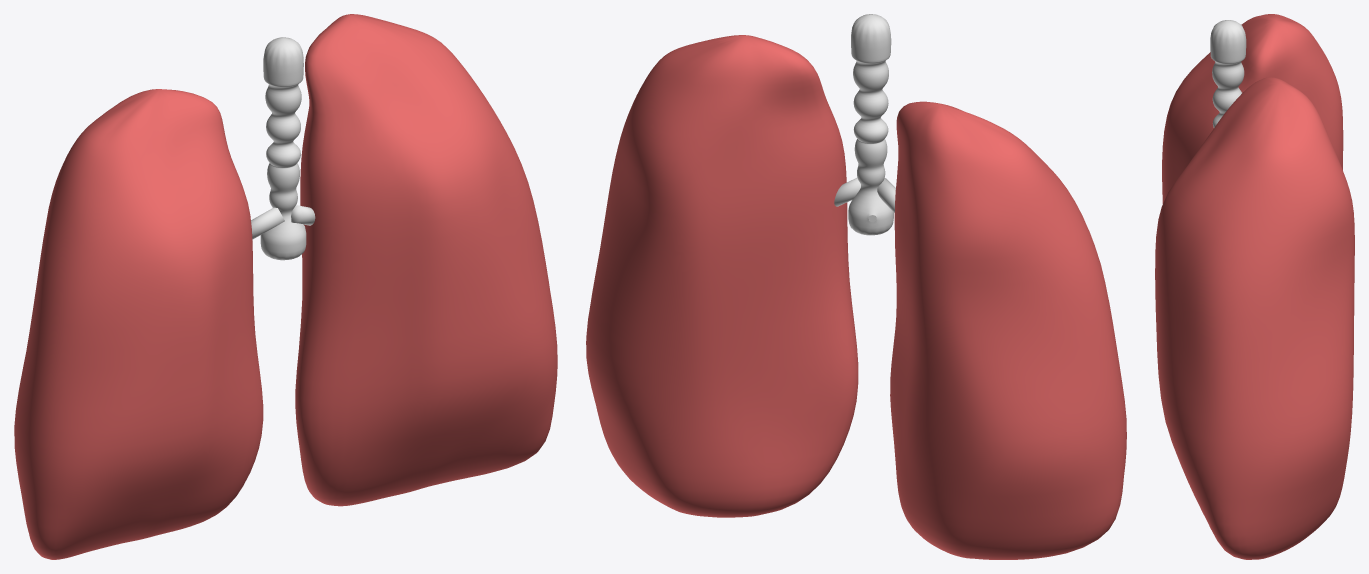
File: Lungs.gltf
3 renders of one model, left to right at view 1: azimuth 30°, elevation 25°; view 2: azimuth 150°, elevation 25°; view 3: azimuth 270°, elevation 25°, orthographic. The views are drawn at different scales.
Parts seen in each view (by area): view 1: Sphere.002, Sphere.001, Cylinder; view 2: Sphere.002, Sphere.001, Cylinder; view 3: Sphere.002, Sphere.001, Cylinder.
Part boxes in pixels (x1,y1,x2,y2): Sphere.002: (295,14,557,506); Sphere.001: (14,89,263,559); Cylinder: (260,37,306,260); Sphere.002: (586,35,858,517); Sphere.001: (890,101,1126,559); Cylinder: (848,14,893,235); Sphere.002: (1155,77,1354,559); Sphere.001: (1162,14,1343,203); Cylinder: (1210,20,1246,127).
Bounding box in the file's own units: 1.42 × 1.31 × 0.5295.
